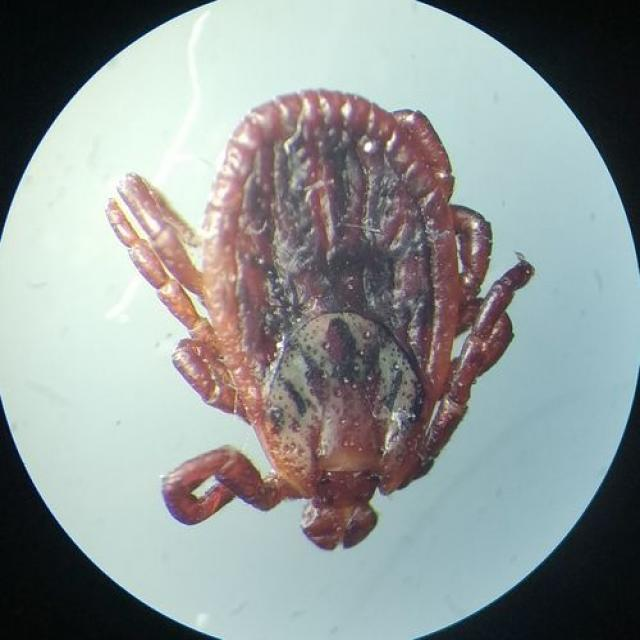Dermacentor Reticulatus-F: (104, 86, 534, 550)
